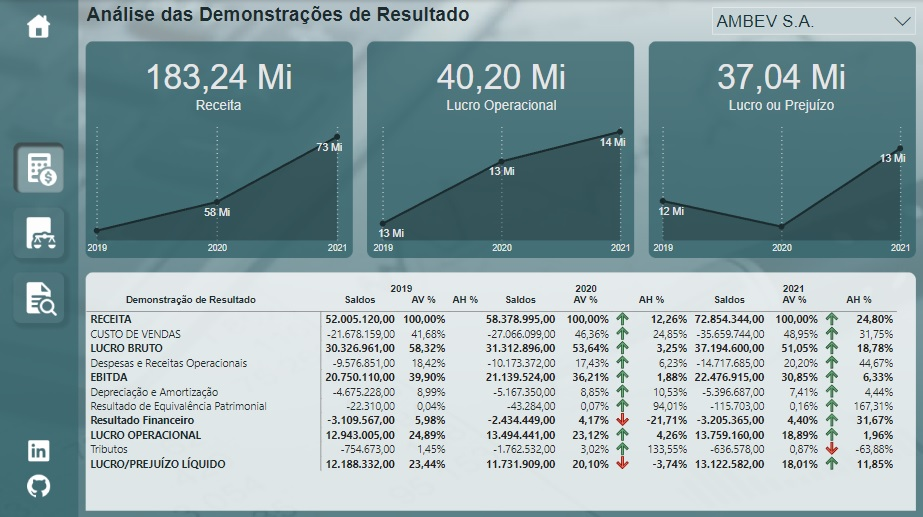

What the dashboard file says about the page in this screenshot:
{"tool":"powerbi","page":{"name":"DRE","canvas":[1280,720],"ordinal":0},"visuals":[{"type":"pivotTable","fields":{"Rows":["dPlanodecontas.Subgrupo"],"Columns":["dCalendario.Ano"],"Values":["DRE.Total DRE","DRE.AV DRE","DRE.AH DRE"]},"box":[119.1,376.8,1151.2,332.5],"z":0},{"type":"card","fields":{"Values":["Medidas.Receita Total"]},"box":[120.5,66.5,367.1,95.6],"z":1000},{"type":"card","fields":{"Values":["Medidas.Lucro Operacional Total"]},"box":[512.6,66.5,367.1,95.6],"z":2000},{"type":"card","fields":{"Values":["Medidas.Lucro/Prejuízo Total"]},"box":[900.4,66.5,367.1,95.6],"z":3000},{"type":"stackedAreaChart","fields":{"Category":["dCalendario.Ano"],"Y":["Medidas.Receita Total"]},"box":[116.4,162.1,371.3,198.1],"z":4000},{"type":"stackedAreaChart","fields":{"Category":["dCalendario.Ano"],"Y":["Medidas.Lucro Operacional Total"]},"box":[512.6,162.1,367.1,198.1],"z":5000},{"type":"stackedAreaChart","fields":{"Category":["dCalendario.Ano"],"Y":["Medidas.Lucro/Prejuízo Total"]},"box":[900.4,162.1,367.1,198.1],"z":6000},{"type":"textbox","box":[116.4,9.7,839.5,47.1],"z":7000},{"type":"actionButton","box":[12.5,282.6,87.3,77.6],"z":8000},{"type":"actionButton","box":[12.5,371.3,87.3,79],"z":9000},{"type":"slicer","fields":{"Values":["dEmpresas.Nome_empresa"]},"box":[978,0,302,51.3],"z":10000},{"type":"actionButton","box":[33.2,608.1,47.1,36],"z":11000},{"type":"actionButton","box":[33.2,653.9,47.1,40.2],"z":12000},{"type":"actionButton","box":[33.2,11.1,47.1,52.6],"z":13000}]}

Visuals, with their boxes on the page's 1280x720 design canvas (x1, y1, x2, y2). These are canvas units, not pixel positions in the 923x517 screenshot, which may show the page scaled, cropped or inside an application window:
pivotTable - dPlanodecontas.Subgrupo x dCalendario.Ano: select_region(119, 377, 1270, 709)
card - Medidas.Receita Total: select_region(120, 66, 488, 162)
card - Medidas.Lucro Operacional Total: select_region(513, 66, 880, 162)
card - Medidas.Lucro/Prejuízo Total: select_region(900, 66, 1268, 162)
stackedAreaChart - dCalendario.Ano x Medidas.Receita Total: select_region(116, 162, 488, 360)
stackedAreaChart - dCalendario.Ano x Medidas.Lucro Operacional Total: select_region(513, 162, 880, 360)
stackedAreaChart - dCalendario.Ano x Medidas.Lucro/Prejuízo Total: select_region(900, 162, 1268, 360)
textbox: select_region(116, 10, 956, 57)
actionButton: select_region(12, 283, 100, 360)
actionButton: select_region(12, 371, 100, 450)
slicer - dEmpresas.Nome_empresa: select_region(978, 0, 1280, 51)
actionButton: select_region(33, 608, 80, 644)
actionButton: select_region(33, 654, 80, 694)
actionButton: select_region(33, 11, 80, 64)
